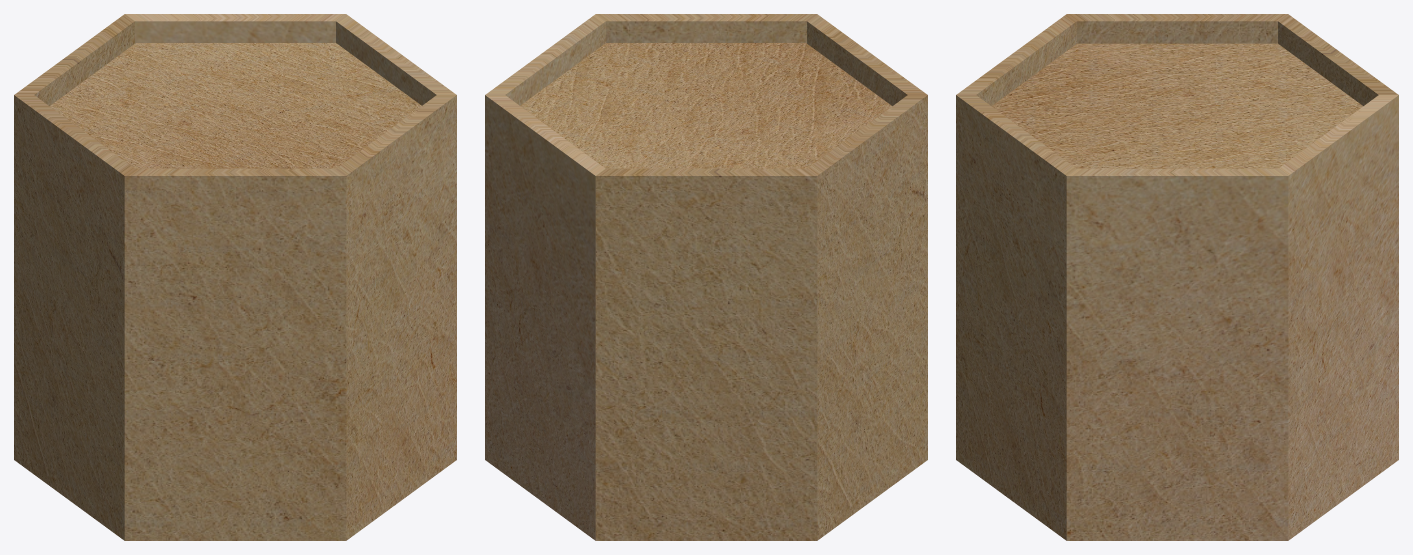
Rendered from Model21Second.gltf.
The picture shows the model from 3 angles, left to right: view 1: azimuth 30°, elevation 25°; view 2: azimuth 150°, elevation 25°; view 3: azimuth 270°, elevation 25°; orthographic projection.
Parts seen in each view (by area): view 1: Cylinder, Cylinder.001; view 2: Cylinder, Cylinder.001; view 3: Cylinder, Cylinder.001.
Boxes of the visible parts, <box> form: Cylinder: <box>14,14,456,540</box>; Cylinder.001: <box>49,43,421,168</box>; Cylinder: <box>485,14,927,540</box>; Cylinder.001: <box>520,43,892,168</box>; Cylinder: <box>956,14,1398,540</box>; Cylinder.001: <box>991,43,1363,168</box>.
Bounding box in the file's own units: 1.91 × 2 × 2.2.
4 materials, 4 textured.
